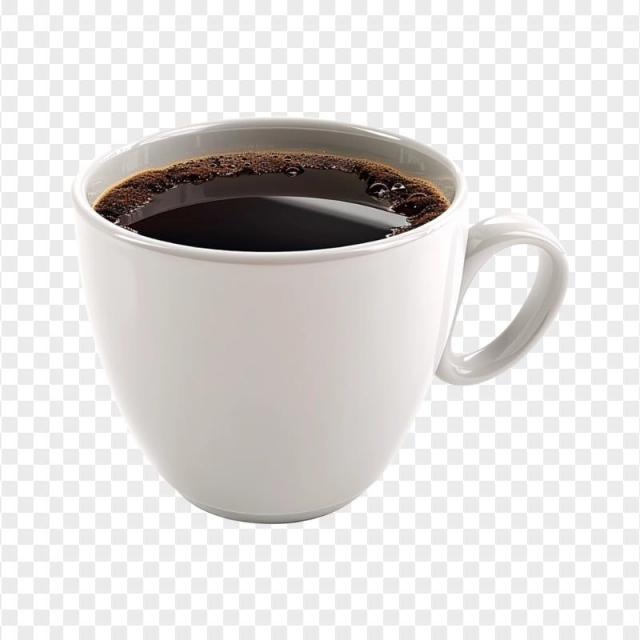glass cup: (69, 116, 569, 524)
